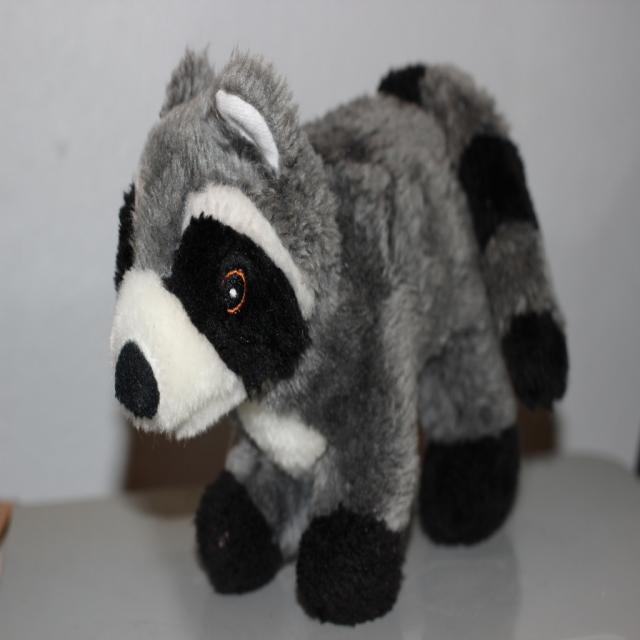Toy: (108, 31, 570, 628)
